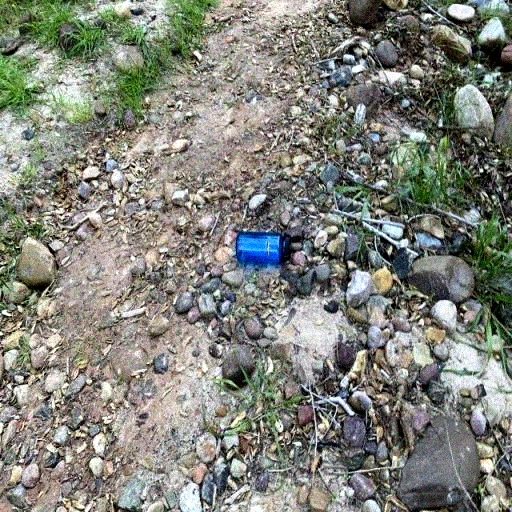bottle: (236, 232, 292, 263)
